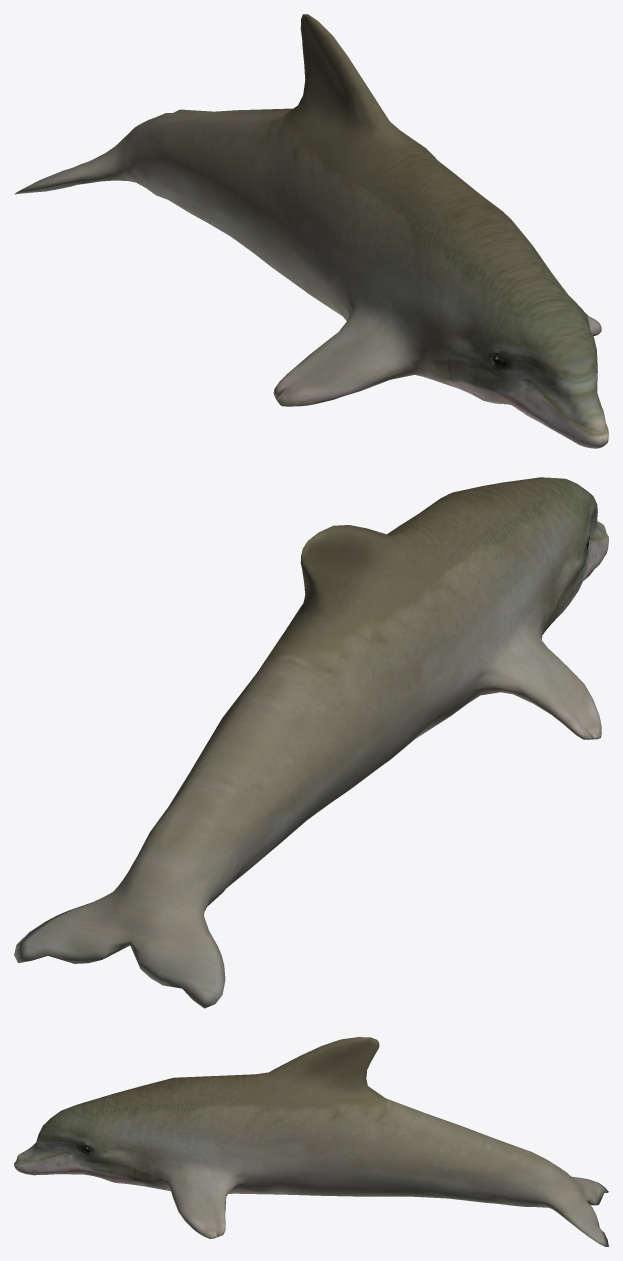
Rendered from dolphin.glb.
3 views of the same model, one above another, from view 1: azimuth 30°, elevation 25°; view 2: azimuth 150°, elevation 25°; view 3: azimuth 270°, elevation 25° (orthographic). The views are drawn at different scales.
Visible parts, largest first — view 1: DOLPHIN; view 2: DOLPHIN; view 3: DOLPHIN.
Part boxes in pixels (<box>): DOLPHIN: <box>14,14,608,448</box>; DOLPHIN: <box>14,477,608,1008</box>; DOLPHIN: <box>14,1037,608,1246</box>.
Size of the model in its own units: 0.8523 by 0.7685 by 2.27.
Materials: 1 (1 with a texture image).
